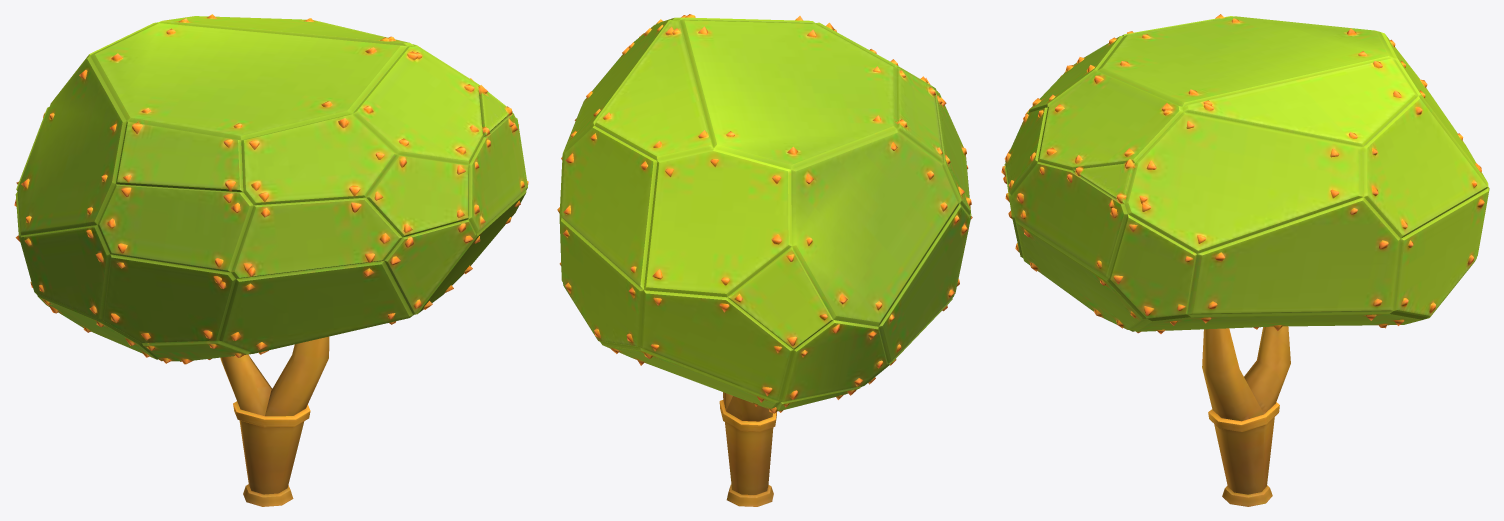
The model's file is obj_tree01_base.gltf.
3 renders of one model, left to right at view 1: azimuth 30°, elevation 25°; view 2: azimuth 150°, elevation 25°; view 3: azimuth 270°, elevation 25°, orthographic. The views are drawn at different scales.
Visible parts, largest first — view 1: obj_tree01_base; view 2: obj_tree01_base; view 3: obj_tree01_base.
Part boxes in pixels (x1,y1,x2,y2): obj_tree01_base: (14,14,528,506); obj_tree01_base: (557,14,972,506); obj_tree01_base: (1001,14,1489,506).
Size of what is drawn, in the model's own units: 2.46 by 2.62 by 2.61.
1 material, 1 textured.
